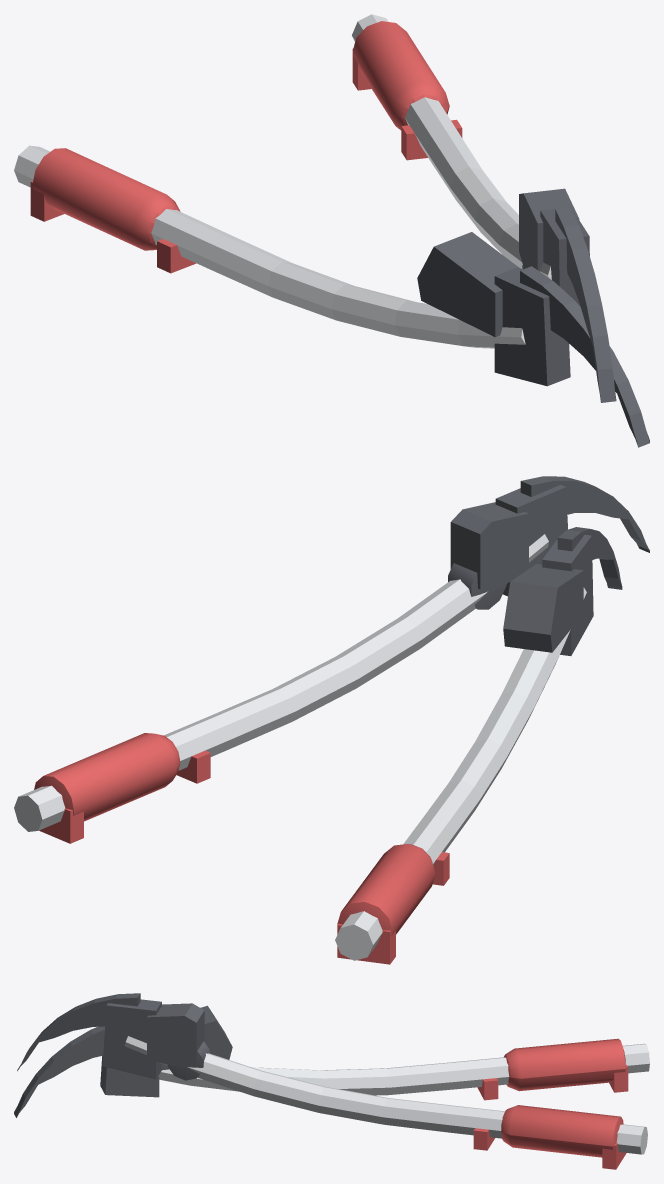
File: mountaineering-and-summit-expedition-technical-ice-too-2945c0ed__18813.glb
3 renders of one model, top to bottom at view 1: azimuth 30°, elevation 25°; view 2: azimuth 150°, elevation 25°; view 3: azimuth 270°, elevation 25°, orthographic. The views are drawn at different scales.
Visible parts, largest first — view 1: technical-ice-tools-pair; view 2: technical-ice-tools-pair; view 3: technical-ice-tools-pair.
Boxes of the visible parts, x1=… form: technical-ice-tools-pair: x1=14, y1=14, x2=649, y2=447; technical-ice-tools-pair: x1=14, y1=476, x2=649, y2=964; technical-ice-tools-pair: x1=14, y1=993, x2=649, y2=1169.
Bounding box in the file's own units: 0.3024 × 0.1583 × 0.6206.
